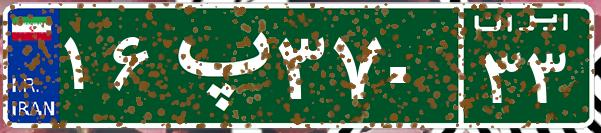0: (385, 28, 445, 110)
1: (57, 26, 110, 107)
3: (273, 28, 330, 110), (475, 38, 525, 113), (525, 38, 570, 115)
6: (110, 28, 158, 105)
7: (330, 28, 385, 110)
پ: (158, 15, 273, 115)
